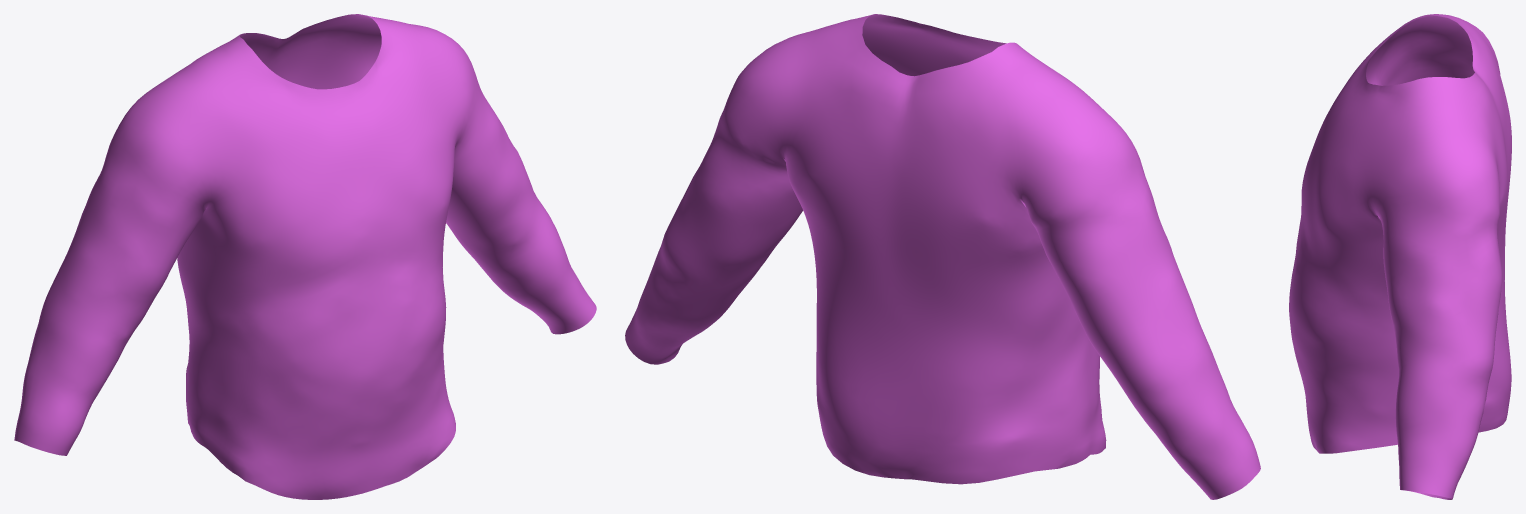
Rendered from Male-XXX-Large-Shirt.glb.
3 renders of one model, left to right at view 1: azimuth 30°, elevation 25°; view 2: azimuth 150°, elevation 25°; view 3: azimuth 270°, elevation 25°, orthographic. The views are drawn at different scales.
Parts seen in each view (by area): view 1: Group1.007; view 2: Group1.007; view 3: Group1.007.
Boxes of the visible parts, box(x1,y1,x2,y2) form: Group1.007: box(14, 14, 596, 499); Group1.007: box(625, 14, 1260, 499); Group1.007: box(1289, 14, 1511, 499).
Size of the model in its own units: 1.86 by 1.29 by 0.6687.
